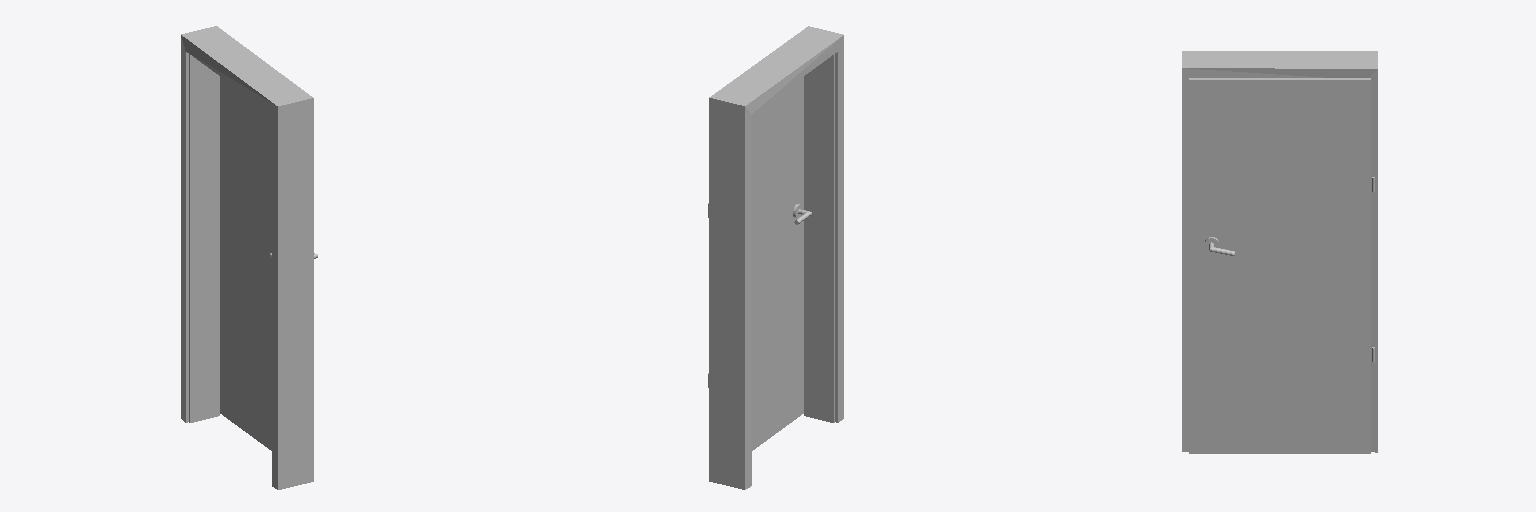
File: door30.obj
3 renders of one model, left to right at view 1: azimuth 30°, elevation 25°; view 2: azimuth 150°, elevation 25°; view 3: azimuth 270°, elevation 25°, orthographic.
Visible parts, largest first — view 1: Cylinder.005, Cylinder.001; view 2: Cylinder.005, Cylinder.001; view 3: Cylinder.001, Cylinder.005.
Boxes of the visible parts, x1=… form: Cylinder.005: x1=181, y1=26, x2=313, y2=489; Cylinder.001: x1=220, y1=77, x2=271, y2=450; Cylinder.005: x1=708, y1=26, x2=843, y2=489; Cylinder.001: x1=708, y1=77, x2=803, y2=450; Cylinder.001: x1=1189, y1=78, x2=1374, y2=453; Cylinder.005: x1=1182, y1=51, x2=1377, y2=452.
Bounding box in the file's own units: 0.3039 × 2.05 × 0.95.